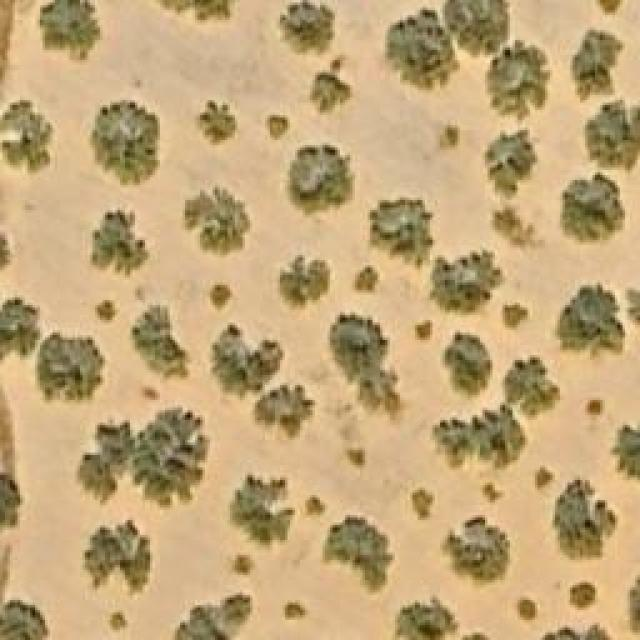Tree: (140, 410, 205, 505), (90, 103, 160, 188), (80, 518, 153, 598), (388, 8, 461, 88), (323, 515, 396, 593), (210, 325, 283, 398), (227, 472, 295, 550), (555, 280, 625, 355), (430, 247, 505, 315), (553, 478, 616, 558), (182, 185, 250, 258), (77, 418, 135, 503), (285, 145, 355, 215), (440, 518, 510, 588), (437, 410, 525, 465), (130, 303, 190, 383), (485, 48, 550, 118), (563, 175, 626, 243), (167, 592, 255, 640), (90, 208, 150, 278), (368, 198, 433, 261), (37, 0, 102, 62), (440, 330, 493, 405), (582, 100, 640, 168), (573, 28, 626, 101), (253, 385, 316, 445), (448, 0, 511, 58), (33, 338, 96, 393), (0, 100, 52, 165), (277, 0, 335, 58), (483, 130, 536, 193), (330, 313, 390, 368), (392, 595, 460, 640), (278, 258, 331, 311), (507, 360, 555, 413), (612, 410, 640, 488), (193, 100, 238, 145), (312, 58, 350, 110), (0, 600, 48, 640), (360, 368, 400, 413), (0, 302, 32, 355), (0, 475, 22, 540), (537, 625, 615, 640), (500, 300, 528, 328), (570, 582, 598, 610), (413, 488, 436, 521), (353, 265, 378, 293), (265, 112, 288, 140), (210, 282, 233, 310), (230, 553, 255, 576), (515, 598, 538, 623), (480, 483, 505, 503), (305, 495, 328, 515), (285, 600, 308, 620), (595, 0, 623, 15), (415, 320, 433, 343), (98, 300, 118, 320), (108, 613, 128, 633), (440, 128, 458, 148), (535, 468, 553, 488)
